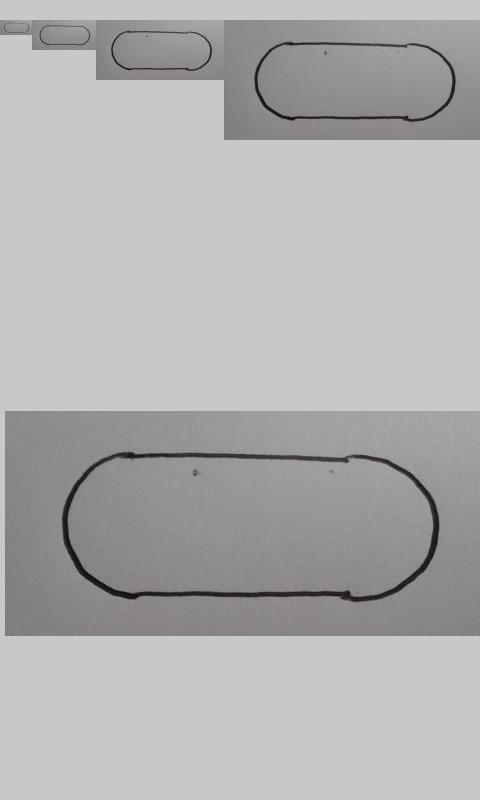chip: (61, 451, 440, 603), (253, 41, 457, 122), (110, 30, 212, 71), (39, 25, 91, 46), (3, 22, 30, 34)
